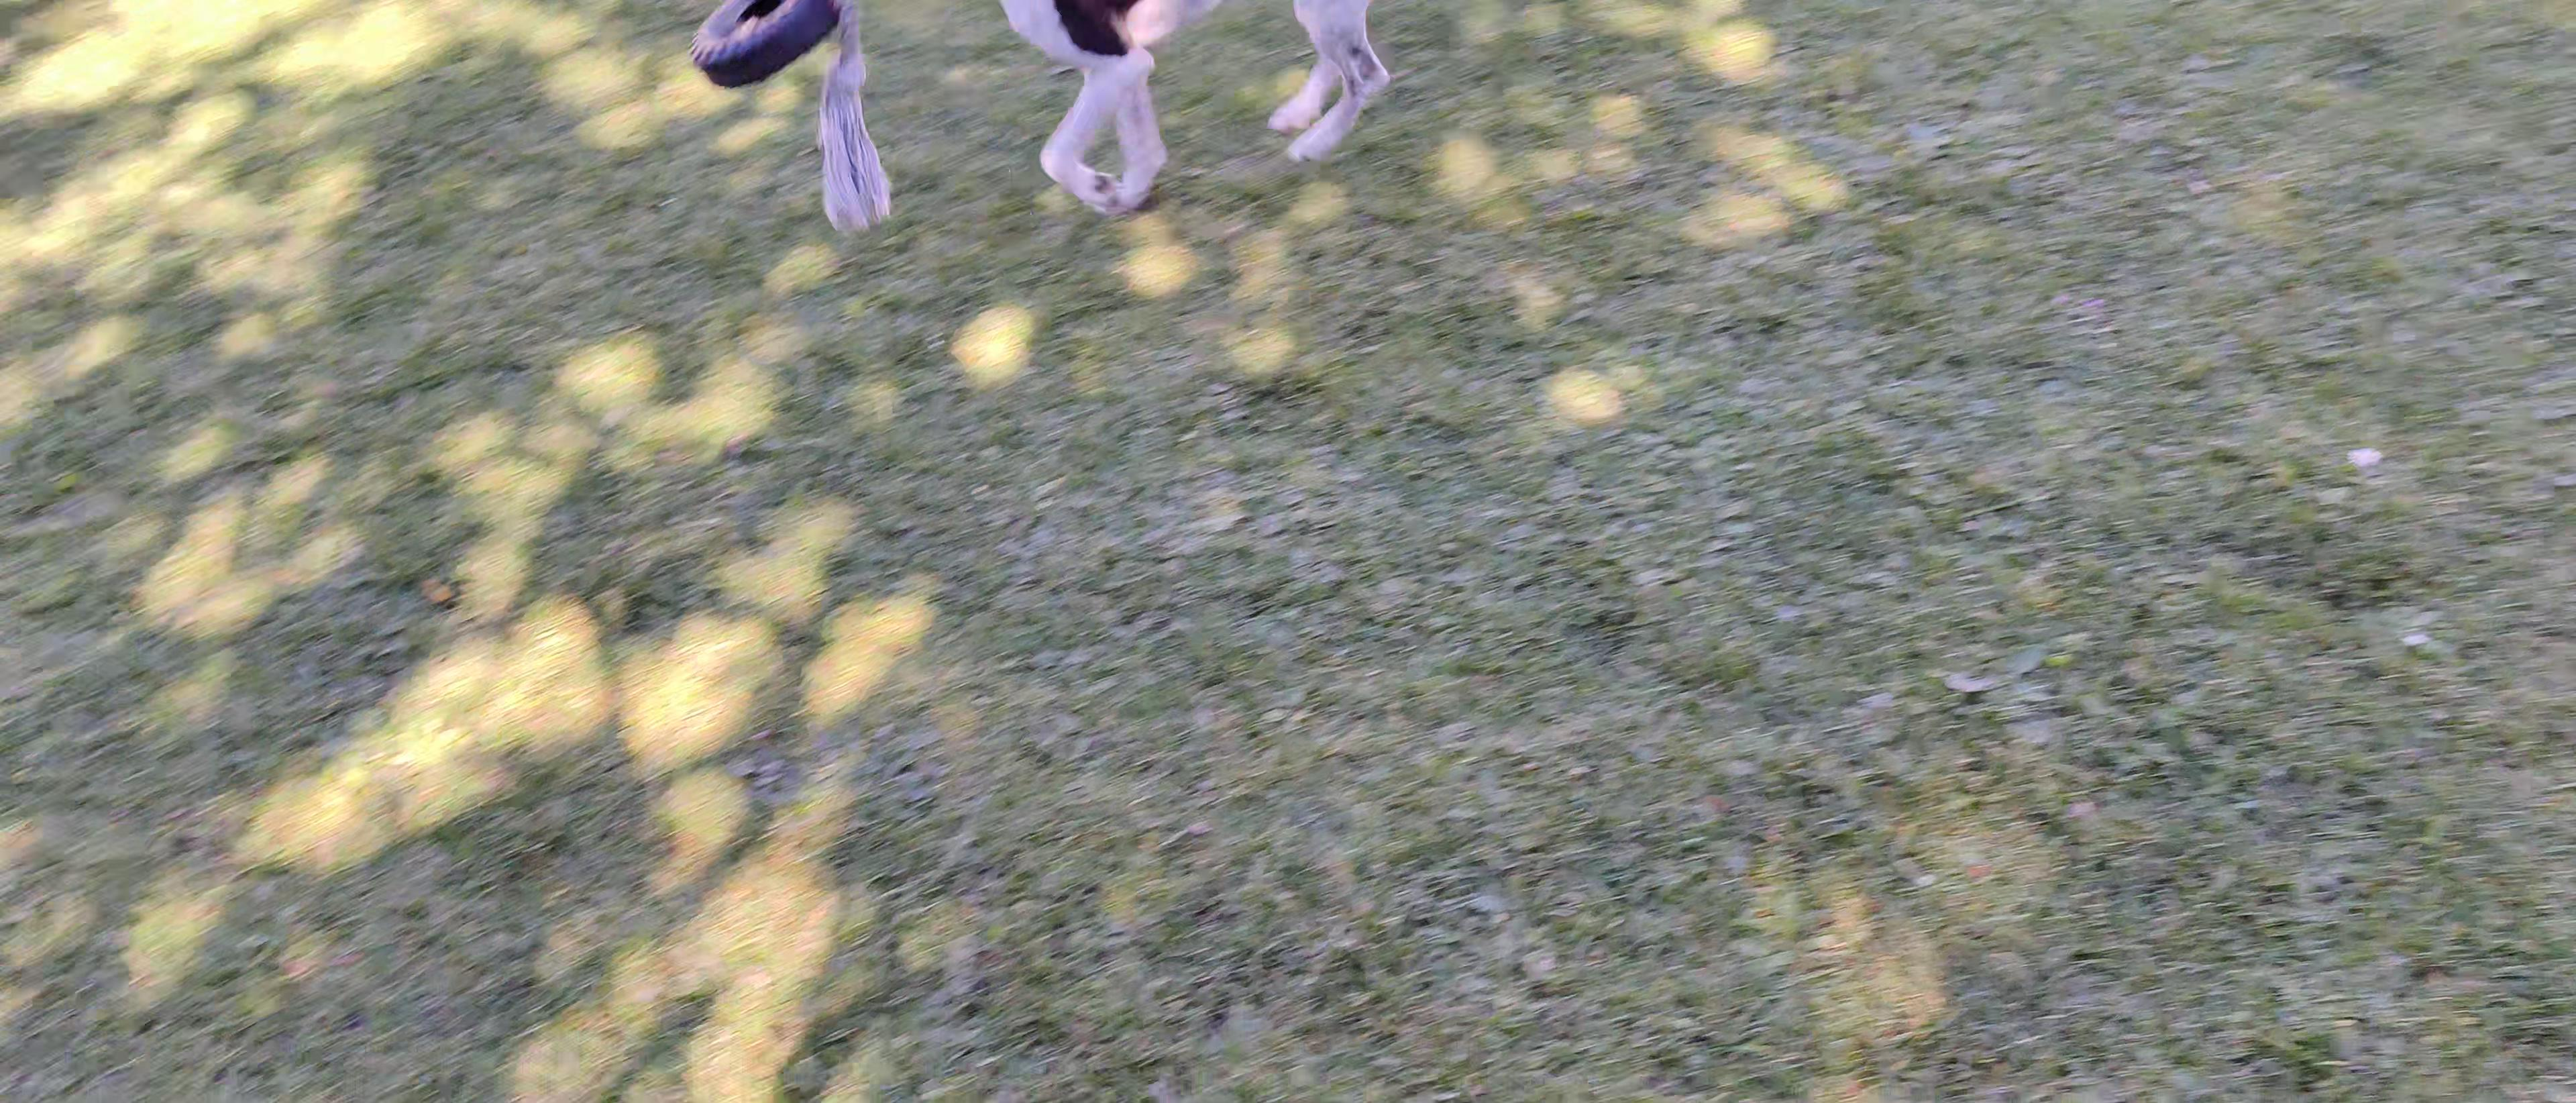Dog: (973, 0, 1408, 224)
